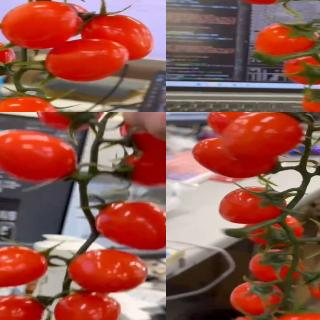tomato: (0, 130, 83, 186), (219, 112, 301, 161), (2, 3, 85, 51), (193, 138, 283, 181), (92, 197, 166, 249), (44, 38, 130, 82), (69, 248, 149, 294), (81, 15, 151, 61), (218, 187, 286, 224), (256, 23, 320, 60), (243, 211, 305, 246), (0, 244, 49, 288), (229, 281, 284, 317), (248, 252, 307, 284), (53, 292, 120, 320), (124, 147, 166, 188), (206, 112, 270, 136), (37, 112, 105, 131), (283, 54, 320, 85), (0, 296, 45, 320), (0, 94, 58, 112), (0, 35, 13, 76), (302, 88, 320, 112), (272, 312, 320, 320)
